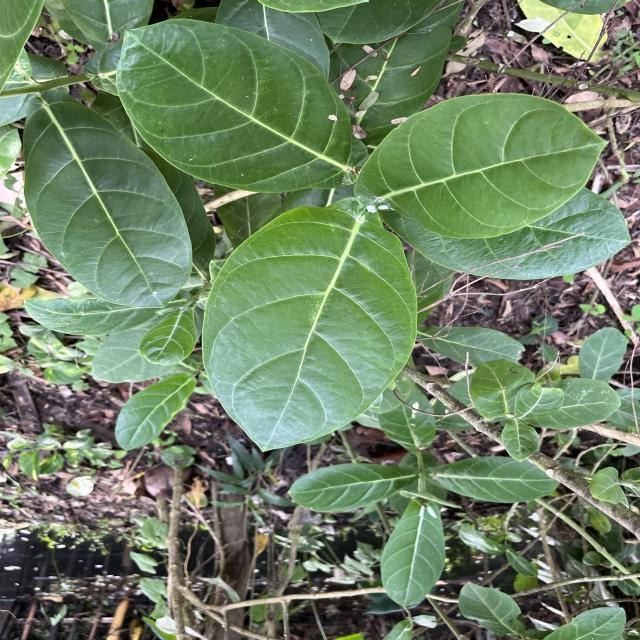Calotropis gigantea: (200, 204, 418, 454), (114, 17, 370, 196), (350, 91, 613, 240), (21, 88, 196, 311), (378, 187, 632, 282), (378, 498, 443, 608), (286, 463, 422, 514), (114, 372, 195, 452), (428, 456, 559, 505)
